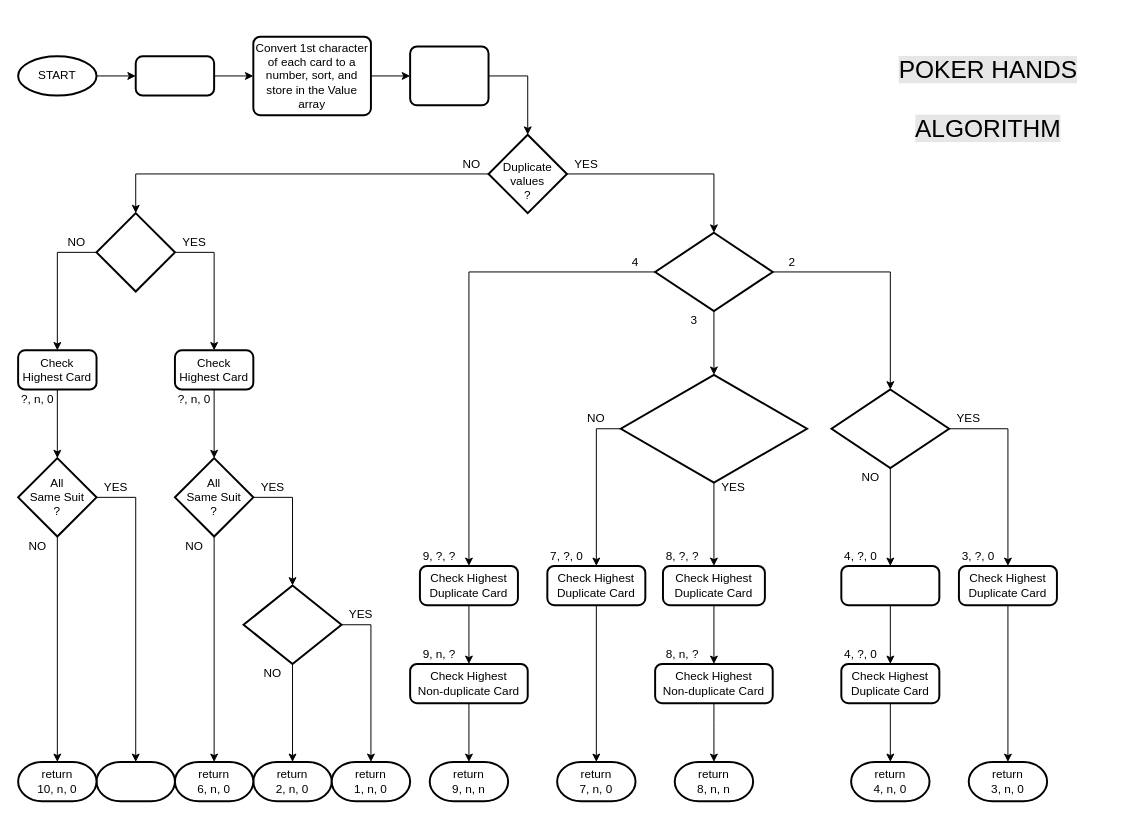
This 1132x819 diagram has some shape labels left out. Here are the shapes that lost their labels. From the top down, the box of each, then its label:
(134, 55, 215, 96): Read Cards
(409, 45, 489, 106): Store 2nd character of each card in the Suit array
(95, 212, 175, 292): Sequential values ?
(654, 231, 773, 312): How many unique values ?
(619, 373, 808, 483): 1st 3 cards equal or card 2 to card 4 equal or card 2 to card 5 equal ?
(830, 388, 950, 468): card 2 to card 4 equal ?
(840, 564, 940, 606): Detect the set of 3 duplicates
(242, 584, 342, 664): Highest card = A ?
(95, 760, 175, 802): return 5, n, 0
